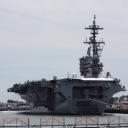Portanaves: (7, 12, 128, 117)
